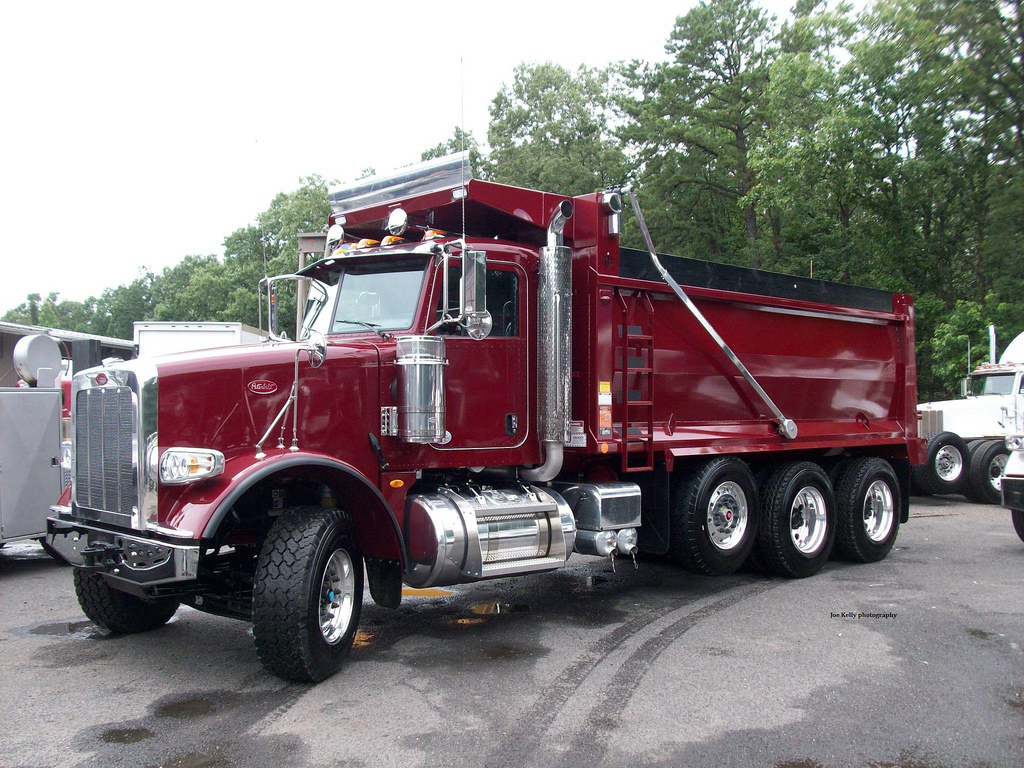truck: (56, 176, 929, 670)
